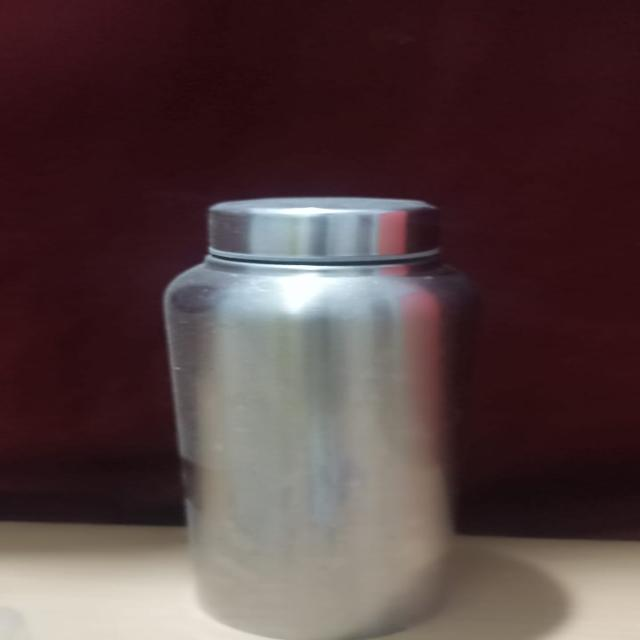bottle: (152, 191, 490, 640)
